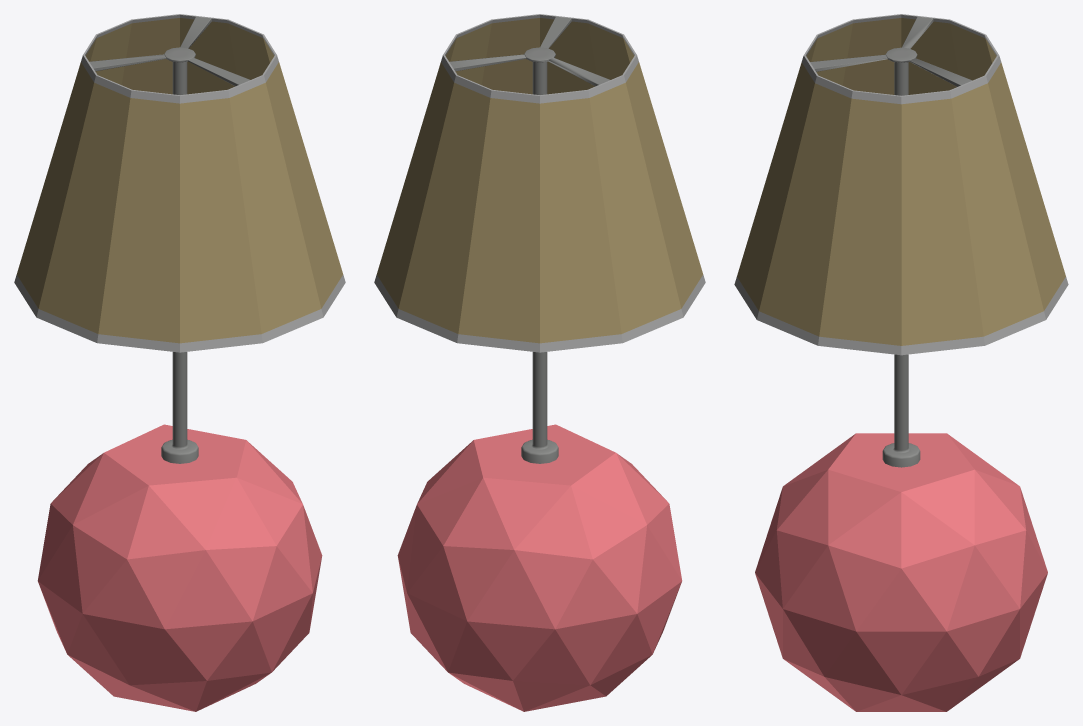
File: lampv2.glb
3 views of the same model, side by side, from view 1: azimuth 30°, elevation 25°; view 2: azimuth 150°, elevation 25°; view 3: azimuth 270°, elevation 25° (orthographic).
Parts seen in each view (by area): view 1: Plane, Icosphere, Cylinder; view 2: Plane, Icosphere, Cylinder; view 3: Plane, Icosphere, Cylinder.
Part boxes in pixels (x1=…): Plane: x1=14, y1=14, x2=345, y2=352; Icosphere: x1=37, y1=424, x2=322, y2=711; Cylinder: x1=89, y1=16, x2=249, y2=463; Plane: x1=374, y1=14, x2=705, y2=352; Icosphere: x1=397, y1=424, x2=682, y2=711; Cylinder: x1=449, y1=16, x2=609, y2=463; Plane: x1=734, y1=14, x2=1068, y2=355; Icosphere: x1=755, y1=433, x2=1047, y2=711; Cylinder: x1=810, y1=16, x2=972, y2=467.
Bounding box in the file's own units: 0.4558 × 0.9503 × 0.4558.
